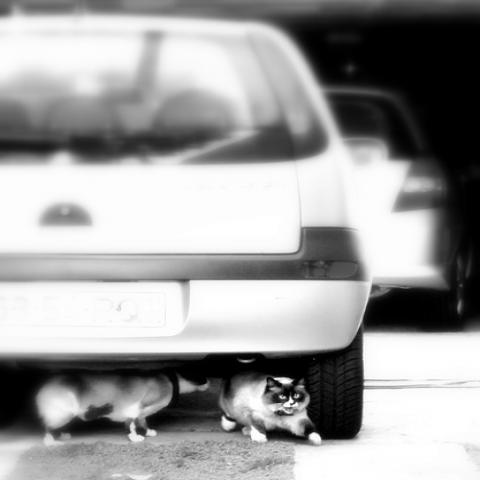car: (0, 11, 383, 439), (328, 85, 480, 325)
